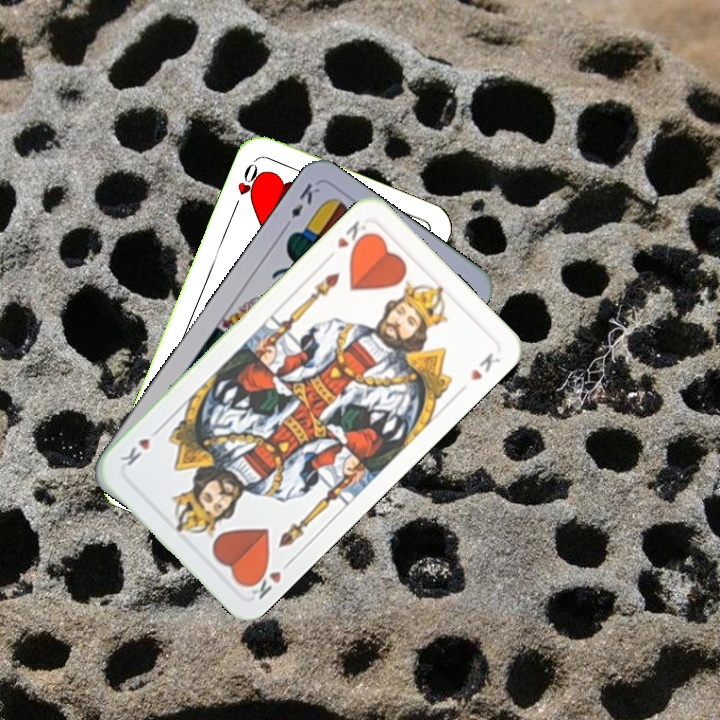EK: (279, 178, 323, 232)
HK: (243, 555, 296, 602), (332, 216, 372, 255)
HO: (229, 157, 266, 213)
